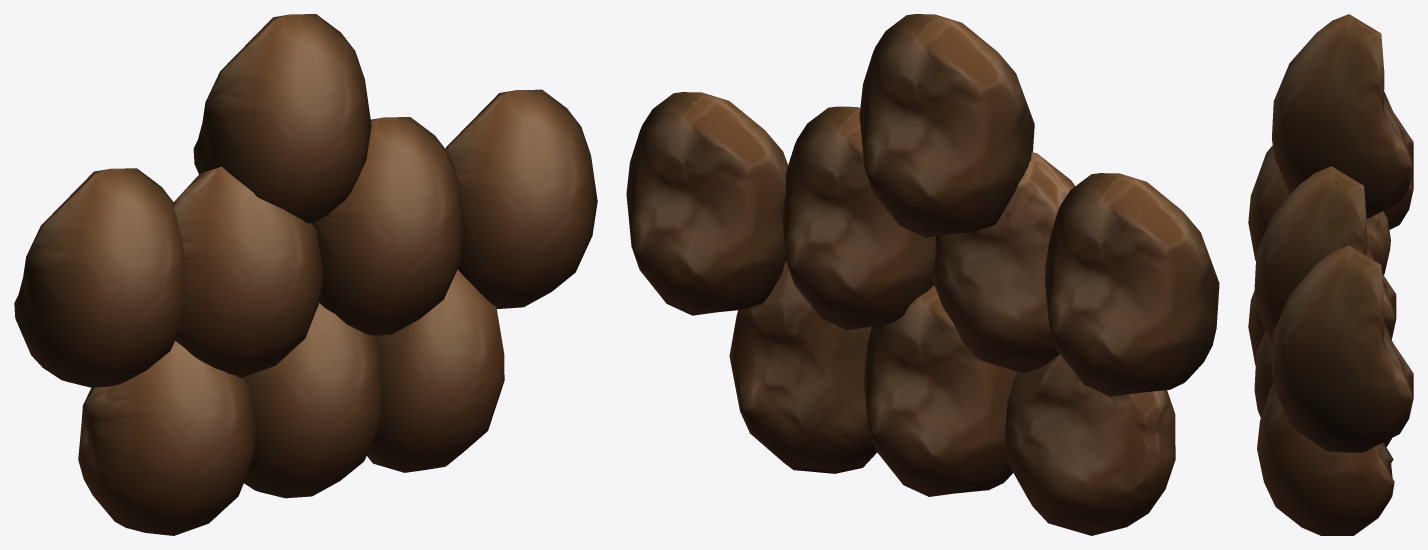
Rendered from TUNEL_MURO.fbx.
3 renders of one model, left to right at view 1: azimuth 30°, elevation 25°; view 2: azimuth 150°, elevation 25°; view 3: azimuth 270°, elevation 25°, orthographic. The views are drawn at different scales.
Parts seen in each view (by area): view 1: Cylinder.013; view 2: Cylinder.013; view 3: Cylinder.013.
Part boxes in pixels (left/top/right/bottom): Cylinder.013: left=14, top=14, right=597, bottom=535; Cylinder.013: left=626, top=14, right=1219, bottom=535; Cylinder.013: left=1248, top=14, right=1413, bottom=535.
Bounding box in the file's own units: 838 × 675 × 223.
